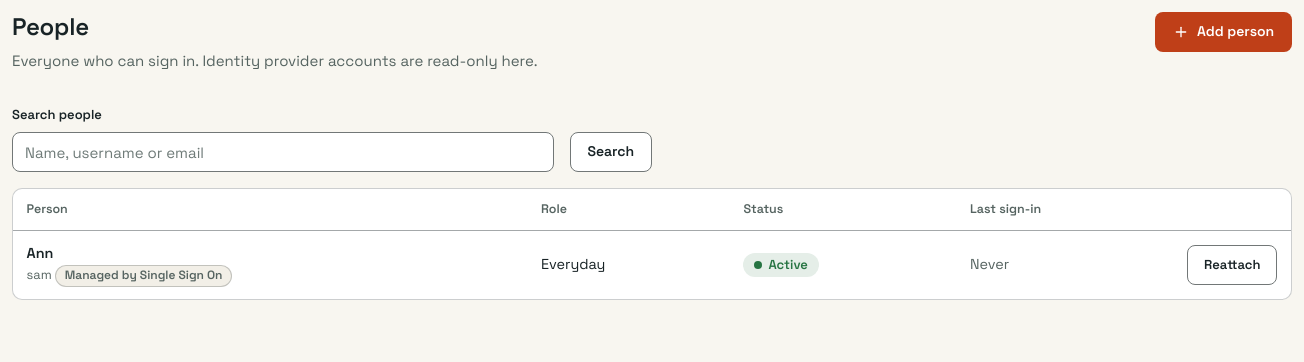
Test: People › reloads with an alert when the sign-in changed since the confirm
What coordinates should you click on to do the following:
click the button with aria-label "Reattach sam to current sign-in"
I would click on:
 (1232, 265)
Its box is [1187,245,1278,285].
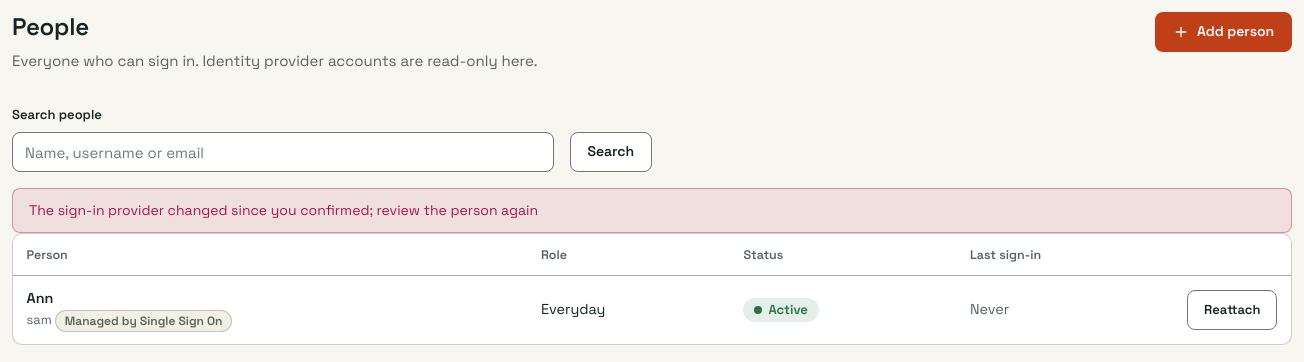
Check: the message shows "sign-in provider changed", box [29,201,538,219]
